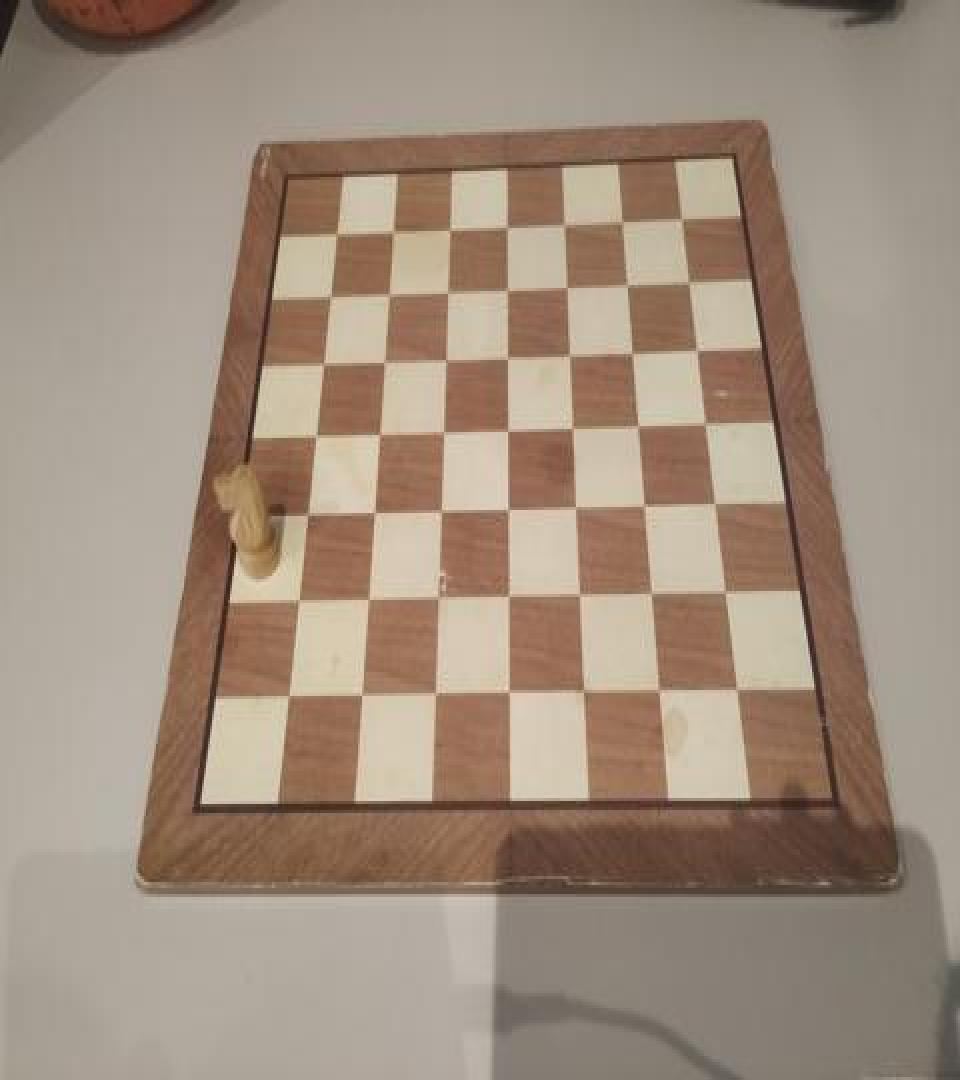xcorner: (359, 499, 379, 530), (374, 280, 394, 311), (323, 223, 343, 254), (346, 681, 366, 711), (419, 681, 439, 711), (494, 680, 514, 710), (570, 678, 590, 708), (648, 678, 668, 708), (728, 676, 748, 706), (284, 588, 304, 618), (423, 585, 443, 615), (494, 582, 514, 612), (640, 579, 660, 609), (716, 576, 736, 606), (293, 502, 313, 532), (426, 496, 446, 526), (494, 495, 514, 525), (563, 492, 583, 522), (633, 489, 653, 519), (705, 486, 725, 516), (302, 423, 322, 453), (364, 420, 384, 450), (428, 417, 448, 447), (494, 414, 514, 444), (560, 411, 580, 441), (627, 408, 647, 438), (696, 405, 716, 435), (309, 351, 329, 381), (370, 348, 390, 378), (431, 344, 451, 374), (493, 340, 513, 370), (557, 338, 577, 368), (621, 333, 641, 363), (687, 330, 707, 360), (316, 285, 336, 315), (433, 276, 453, 306), (493, 273, 513, 303), (554, 268, 574, 298), (616, 264, 636, 294), (679, 261, 699, 291), (379, 219, 399, 249), (436, 214, 456, 244), (493, 210, 513, 240), (552, 206, 572, 236), (611, 201, 631, 231), (671, 196, 691, 226), (274, 683, 294, 712), (353, 587, 373, 616), (566, 581, 586, 610)
